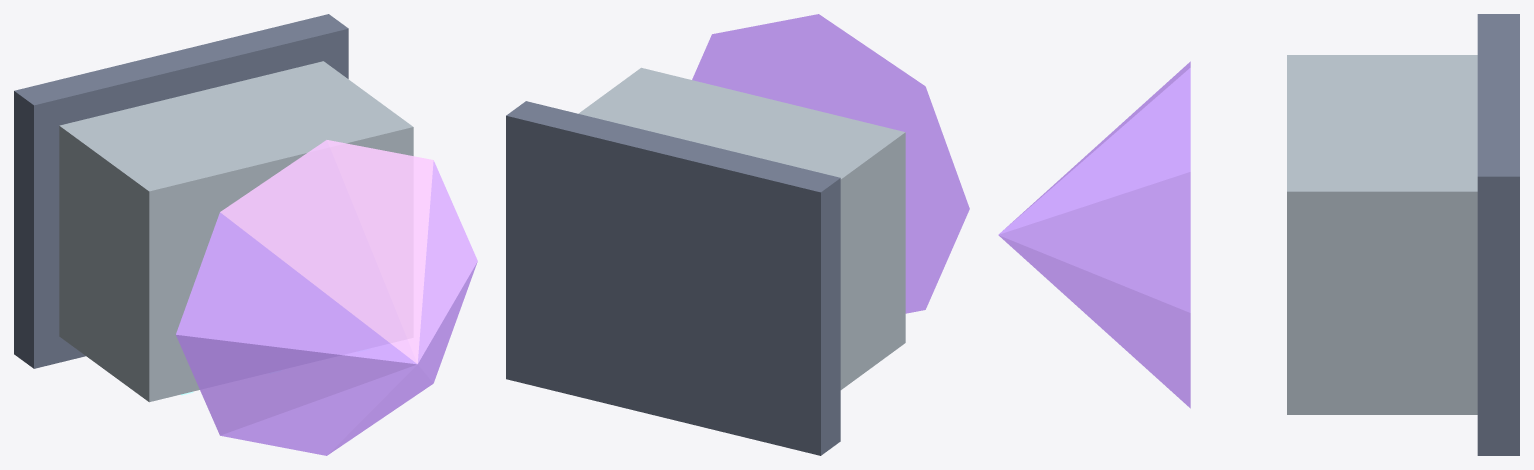
Rendered from 06_Cloud_City_Hall.glb.
3 renders of one model, left to right at view 1: azimuth 30°, elevation 25°; view 2: azimuth 150°, elevation 25°; view 3: azimuth 270°, elevation 25°, orthographic. The views are drawn at different scales.
Parts seen in each view (by area): view 1: 06_Cloud_City_Hall_05, 06_Cloud_City_Hall_01, 06_Cloud_City_Hall_00; view 2: 06_Cloud_City_Hall_00, 06_Cloud_City_Hall_01, 06_Cloud_City_Hall_05; view 3: 06_Cloud_City_Hall_01, 06_Cloud_City_Hall_05, 06_Cloud_City_Hall_00.
Boxes of the visible parts, bbox=[...] form: 06_Cloud_City_Hall_05: bbox=[176, 140, 477, 455]; 06_Cloud_City_Hall_01: bbox=[59, 61, 413, 402]; 06_Cloud_City_Hall_00: bbox=[14, 14, 348, 368]; 06_Cloud_City_Hall_00: bbox=[506, 101, 840, 455]; 06_Cloud_City_Hall_01: bbox=[578, 67, 905, 389]; 06_Cloud_City_Hall_05: bbox=[692, 14, 969, 313]; 06_Cloud_City_Hall_01: bbox=[1287, 55, 1477, 414]; 06_Cloud_City_Hall_05: bbox=[998, 61, 1190, 408]; 06_Cloud_City_Hall_00: bbox=[1477, 14, 1519, 455].
Bounding box in the file's own units: 5 × 4.8 × 6.78.
